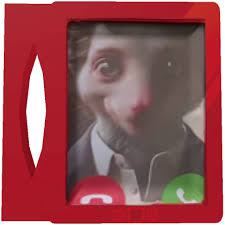mouse-pay: (67, 21, 206, 205)
